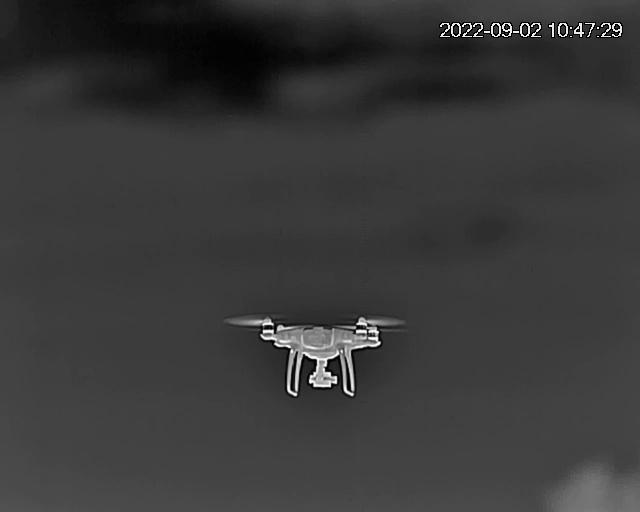DJI-Phantom: (222, 314, 411, 401)
